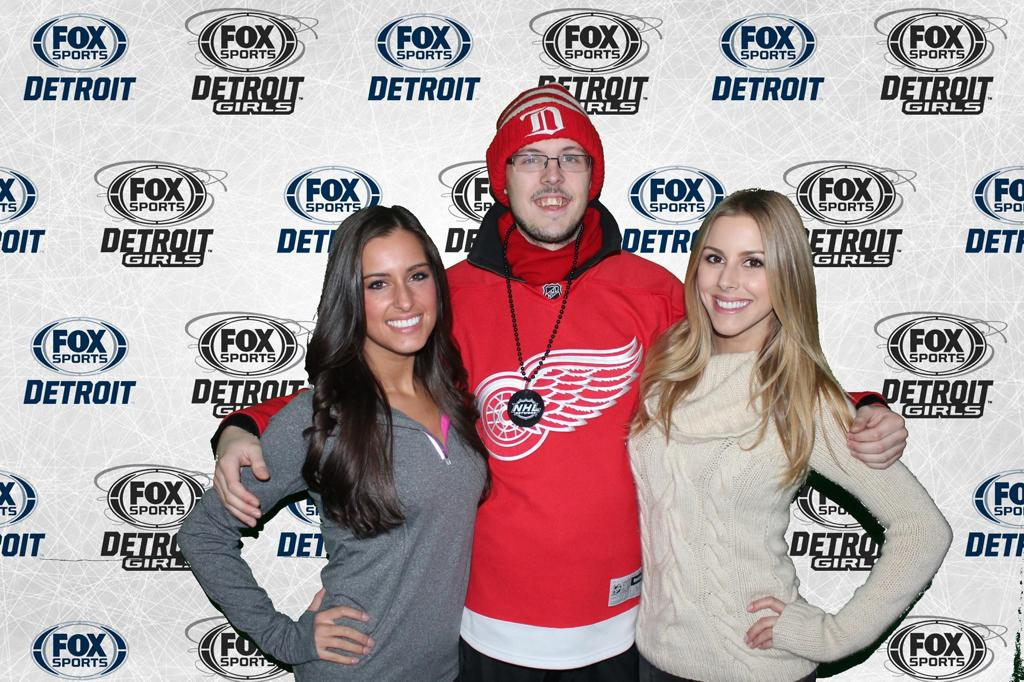face: (696, 200, 784, 338), (352, 238, 440, 352), (506, 130, 586, 240)
